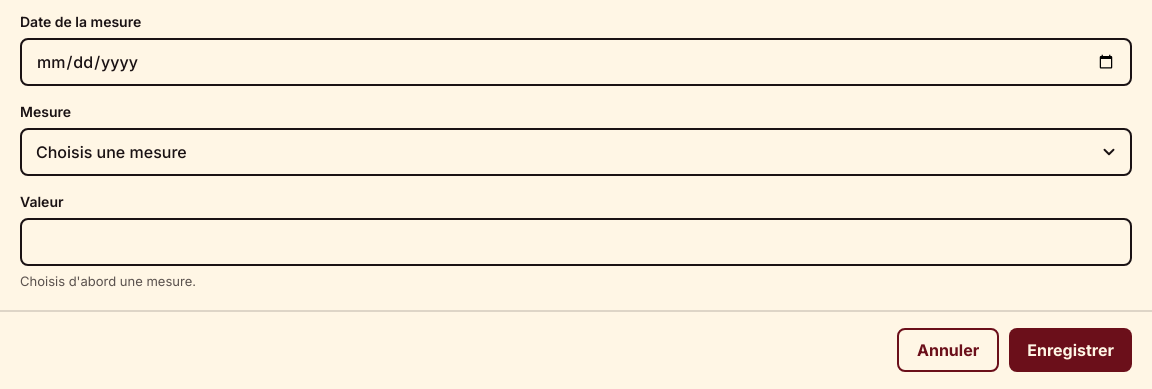
Test case: AddMeasurementForm › propose les trois mesures avec leur unité, et l'aide suit le choix
The image size is (1152, 389).
Select "VMA (km/h)" in the dropdown labelled "Mesure" at (576, 152), box [20, 128, 1132, 176]
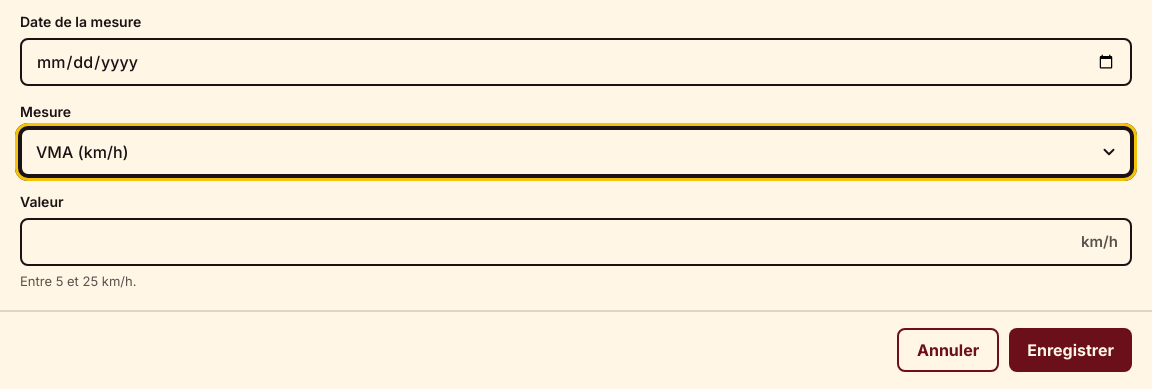
Expected: the text "Entre 5 et 25 km/h." is shown, [20, 273, 136, 289]
Expected: the text "km/h" is shown, [1081, 231, 1118, 253]
